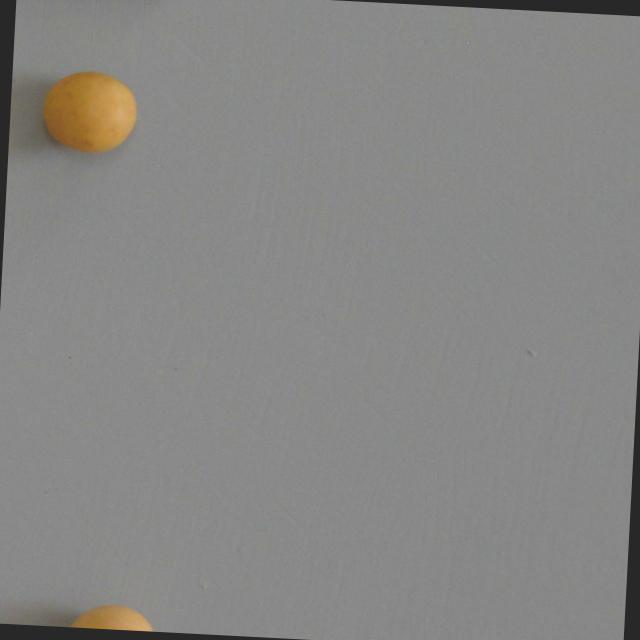cuerpos_extranos: (32, 60, 146, 165), (53, 594, 163, 632)
